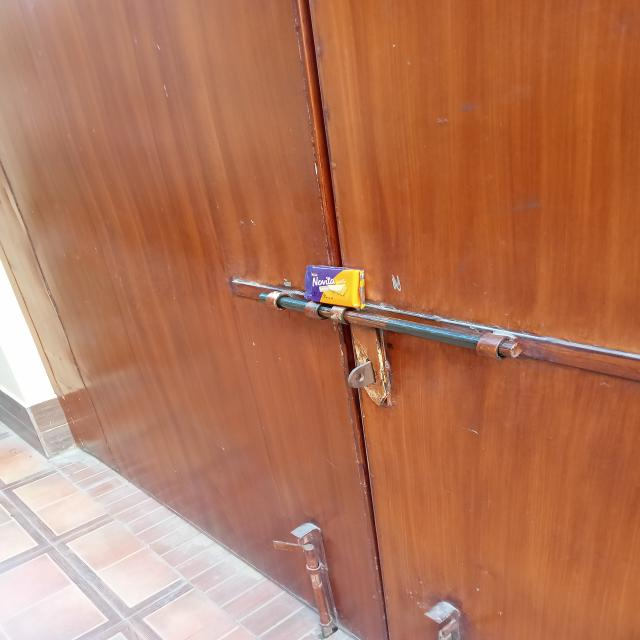Plastic: (302, 256, 376, 312)
